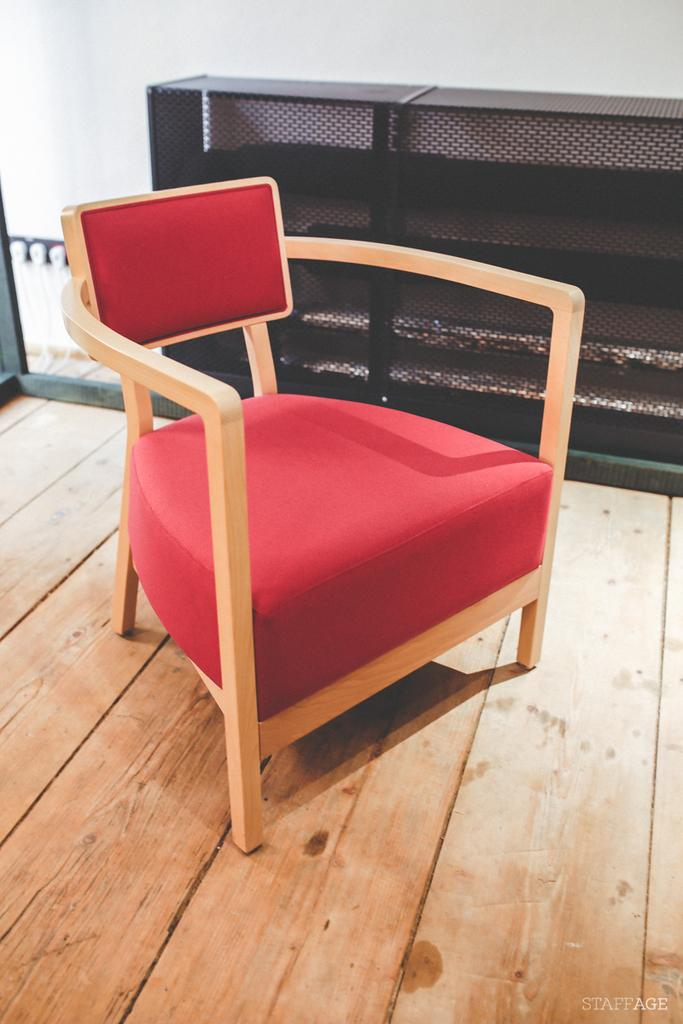Chair: (61, 140, 603, 836)
